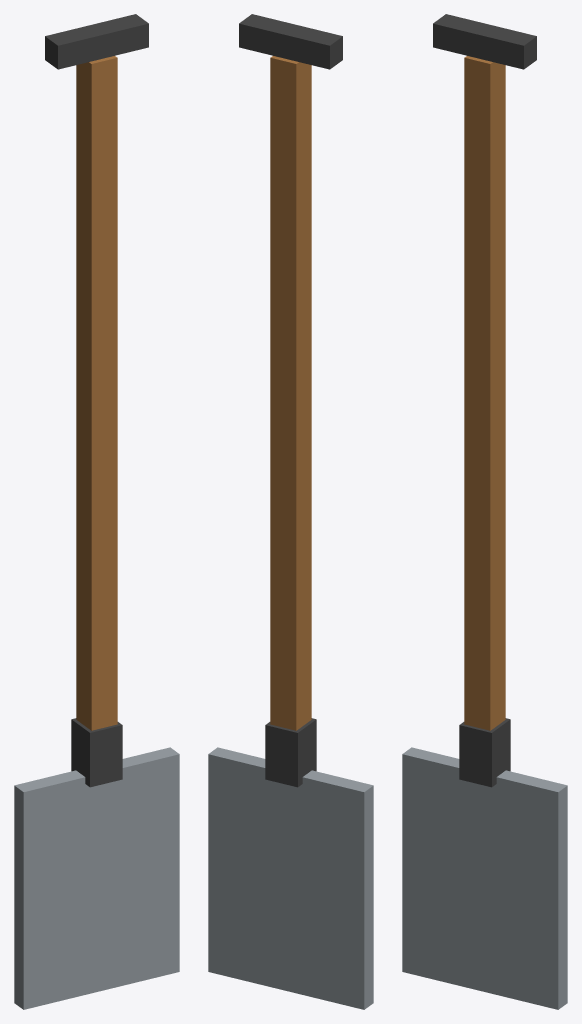
The model's file is Tool_Shovel.fbx.
The picture shows the model from 3 angles, left to right: view 1: azimuth 30°, elevation 25°; view 2: azimuth 150°, elevation 25°; view 3: azimuth 330°, elevation 25°; orthographic projection.
Parts seen in each view (by area): view 1: Tool_Shovel; view 2: Tool_Shovel; view 3: Tool_Shovel.
Part boxes in pixels (<box>): Tool_Shovel: <box>14,14,179,1009</box>; Tool_Shovel: <box>208,14,373,1009</box>; Tool_Shovel: <box>402,14,567,1009</box>.
Bounding box in the file's own units: 0.24 × 1.41 × 0.05.
